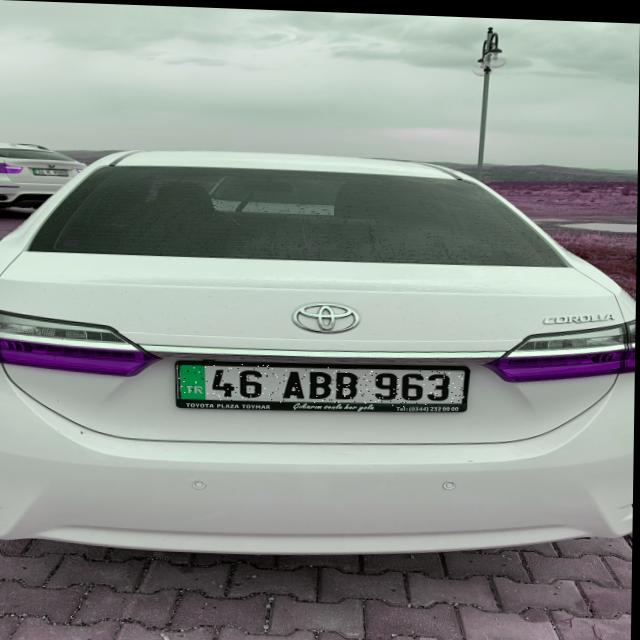license_plate: (177, 360, 468, 406)
